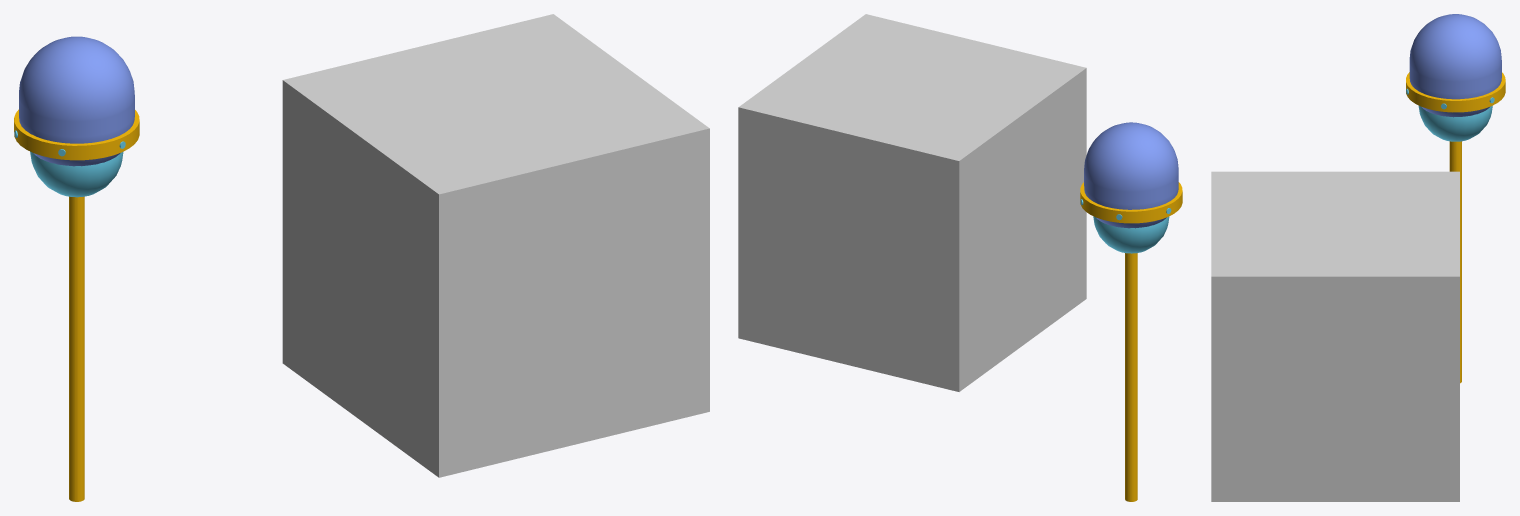
3 views of the same model, side by side, from view 1: azimuth 30°, elevation 25°; view 2: azimuth 150°, elevation 25°; view 3: azimuth 270°, elevation 25° (orthographic). The views are drawn at different scales.
Visible parts, largest first — view 1: Cube.002, Capsule_2, Cylinder.001, Sphere, Tube; view 2: Cube.002, Capsule_2, Cylinder.001, Sphere, Tube; view 3: Cube.002, Capsule_2, Sphere, Tube, Cylinder.001.
Boxes of the visible parts, left/top/right/bottom form: Cube.002: left=282, top=14, right=709, bottom=477; Capsule_2: left=19, top=36, right=134, bottom=166; Cylinder.001: left=69, top=196, right=84, bottom=501; Sphere: left=30, top=151, right=123, bottom=197; Tube: left=14, top=109, right=139, bottom=160; Cube.002: left=738, top=14, right=1086, bottom=391; Capsule_2: left=1084, top=122, right=1178, bottom=228; Cylinder.001: left=1125, top=253, right=1137, bottom=501; Sphere: left=1093, top=216, right=1169, bottom=253; Tube: left=1080, top=182, right=1182, bottom=223; Cube.002: left=1211, top=171, right=1459, bottom=501; Capsule_2: left=1409, top=14, right=1501, bottom=117; Sphere: left=1418, top=106, right=1492, bottom=141; Tube: left=1406, top=72, right=1505, bottom=112; Cylinder.001: left=1449, top=141, right=1461, bottom=383.
Size of the model in its own units: 3.94 by 3.22 by 2.37.
